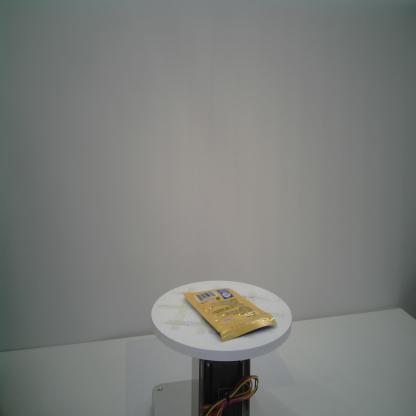Seasoner: (182, 286, 278, 343)
